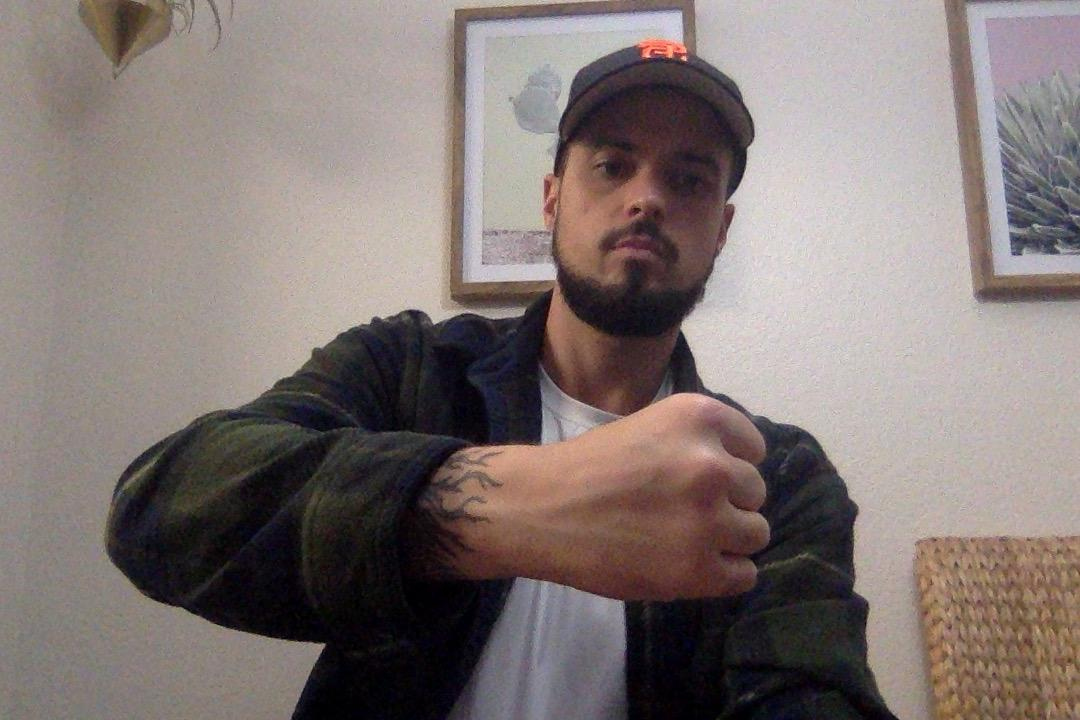Left-Fist: (456, 390, 770, 610)
